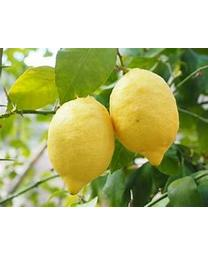lemon: (47, 99, 116, 196), (110, 70, 179, 162)
